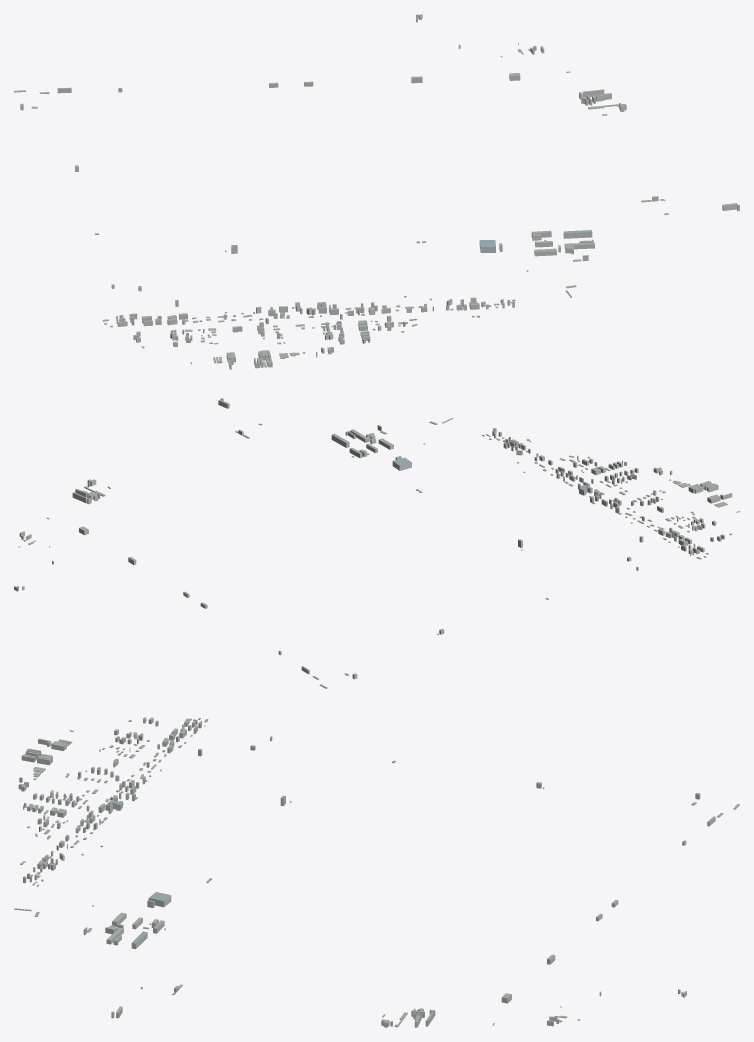
The model's file is far.glb.
3 renders of one model, top to bottom at view 1: azimuth 30°, elevation 25°; view 2: azimuth 150°, elevation 25°; view 3: azimuth 270°, elevation 25°, orthographic. The views are drawn at different scales.
Size of the model in its own units: 2094 by 24.5 by 2077.
